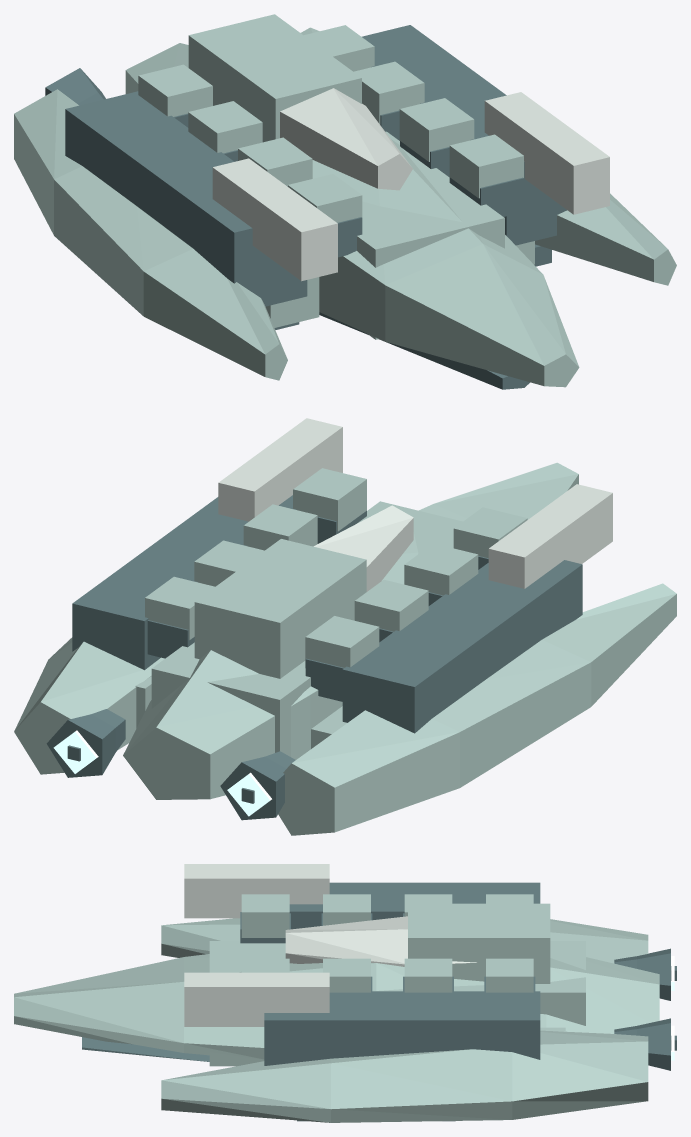
3 renders of one model, top to bottom at view 1: azimuth 30°, elevation 25°; view 2: azimuth 150°, elevation 25°; view 3: azimuth 270°, elevation 25°, orthographic. The views are drawn at different scales.
Bounding box in the file's own units: 16.9 × 6.39 × 26.07.
